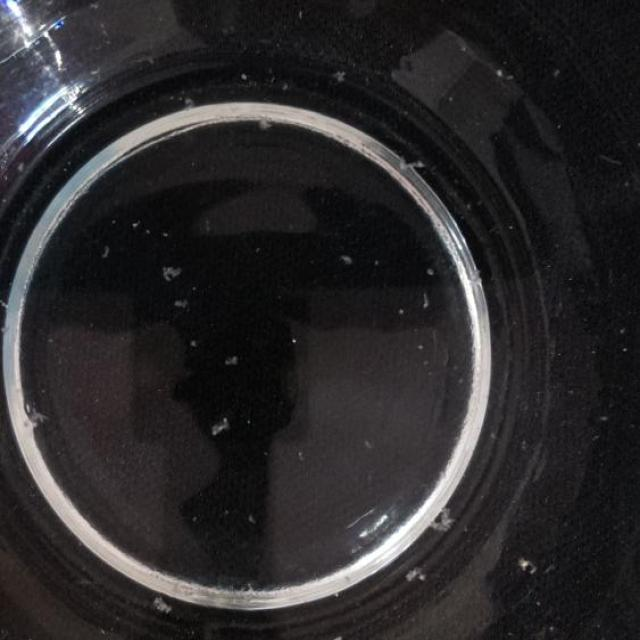fiber: (393, 148, 433, 179), (428, 509, 462, 543), (144, 588, 181, 618), (14, 406, 46, 438), (156, 262, 186, 286), (406, 559, 430, 589), (204, 415, 237, 436), (252, 110, 275, 137), (330, 67, 354, 89), (220, 349, 244, 370), (166, 291, 190, 310), (181, 92, 200, 114), (337, 252, 358, 268), (324, 630, 355, 639), (187, 336, 200, 353)
